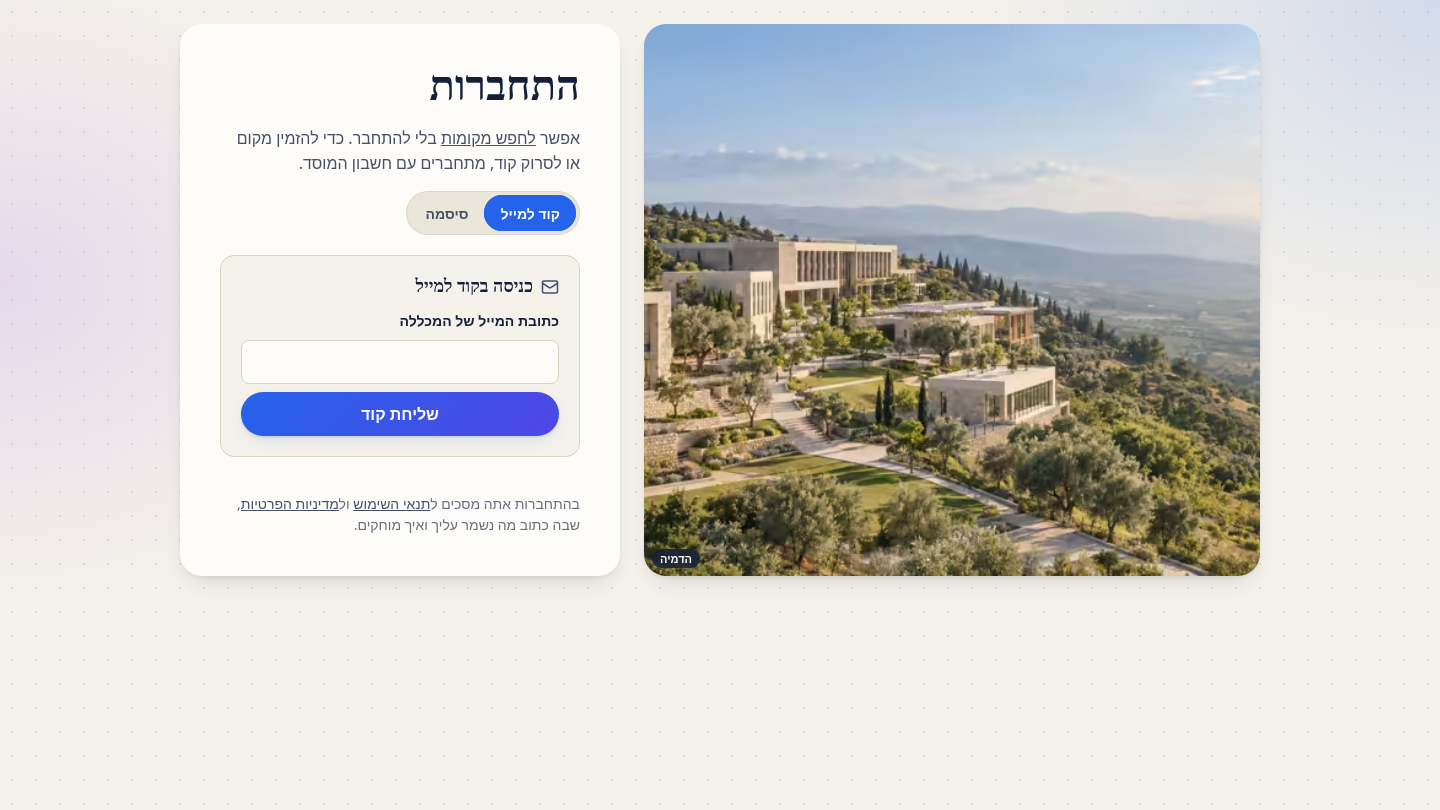
Test: LoginPage email code › says in Hebrew when the address is not a college one
Type "someone@gmail.com" into the field labelled "כתובת המייל של המכללה" at (400, 362), box [241,340,559,384]
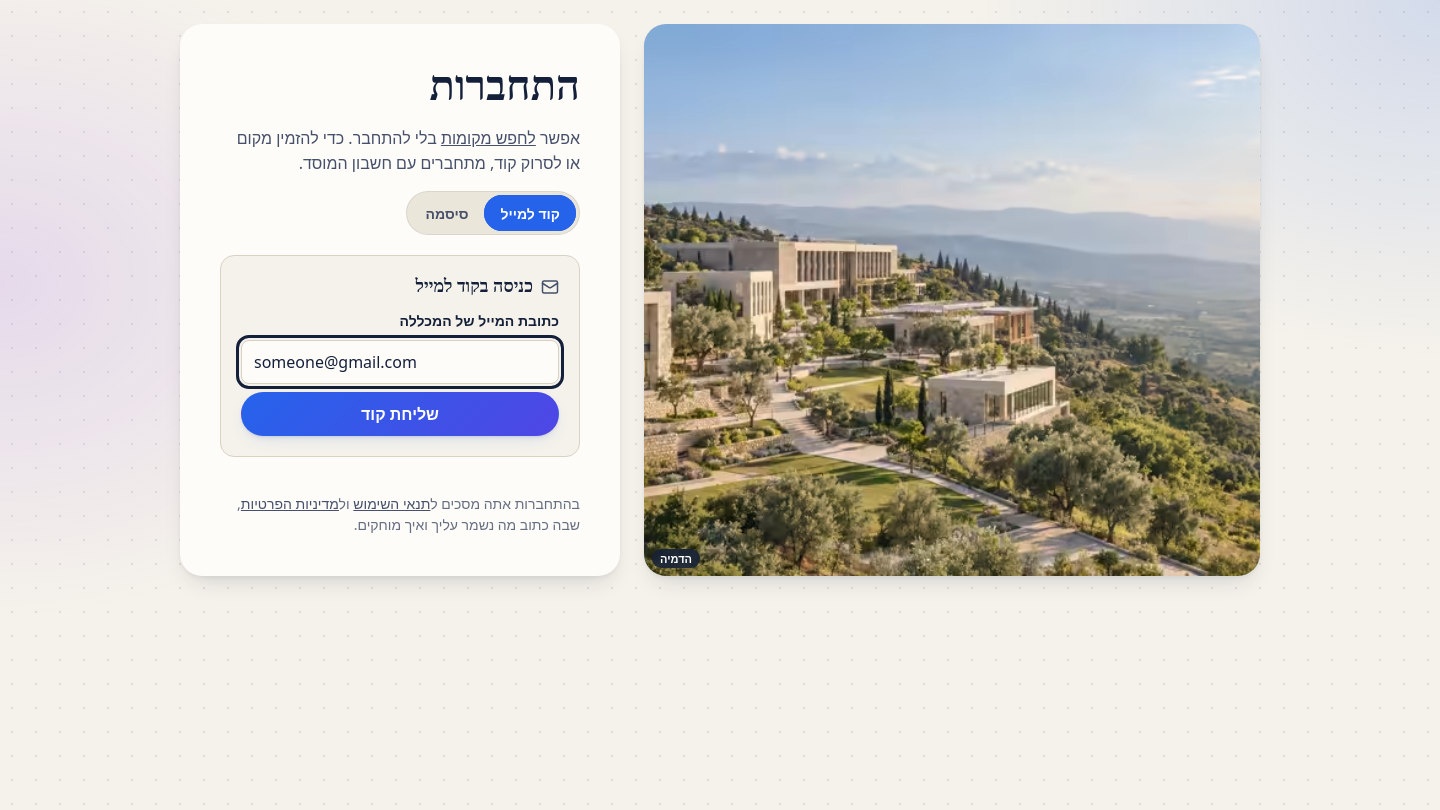
Click the button "שליחת קוד" at (400, 414), box [241,392,559,436]
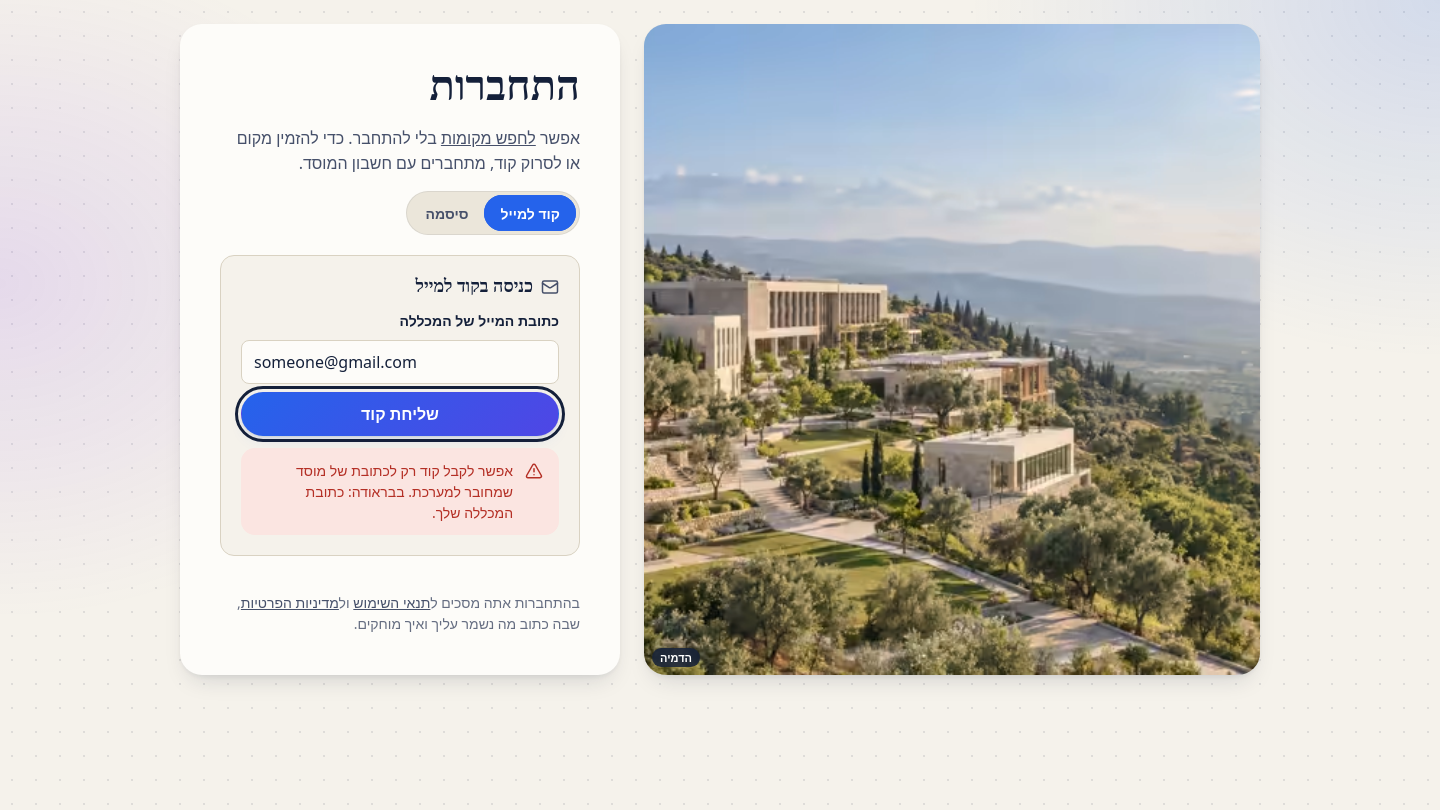
Result: the text "אפשר לקבל קוד רק לכתובת של מוסד" is shown at [296,461,513,522]
